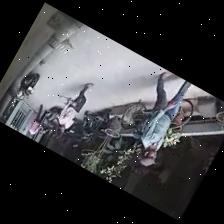person: (140, 71, 190, 165), (55, 83, 92, 135), (29, 105, 46, 136)
